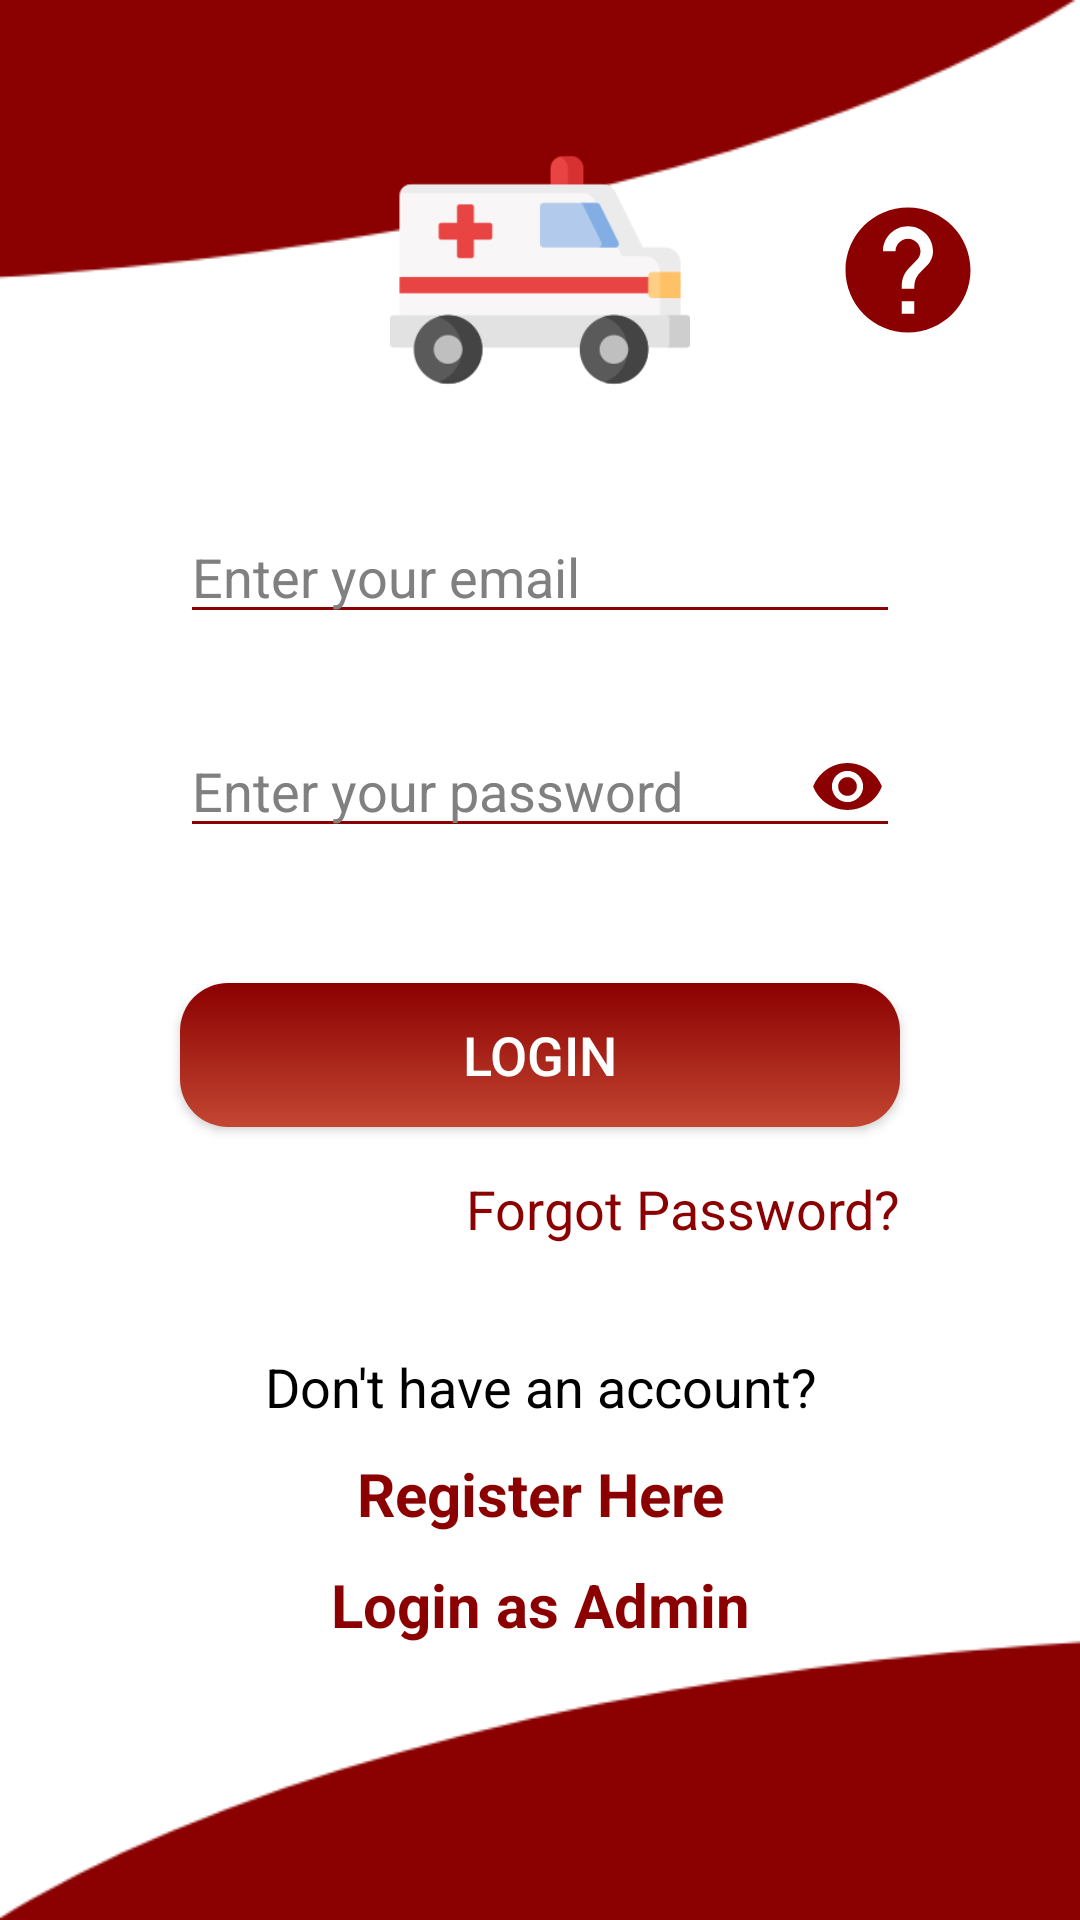

Icon click points for this 1080*1920 phone screenshot, format (x,y):
eye: (847,786)
help: (908,270)
